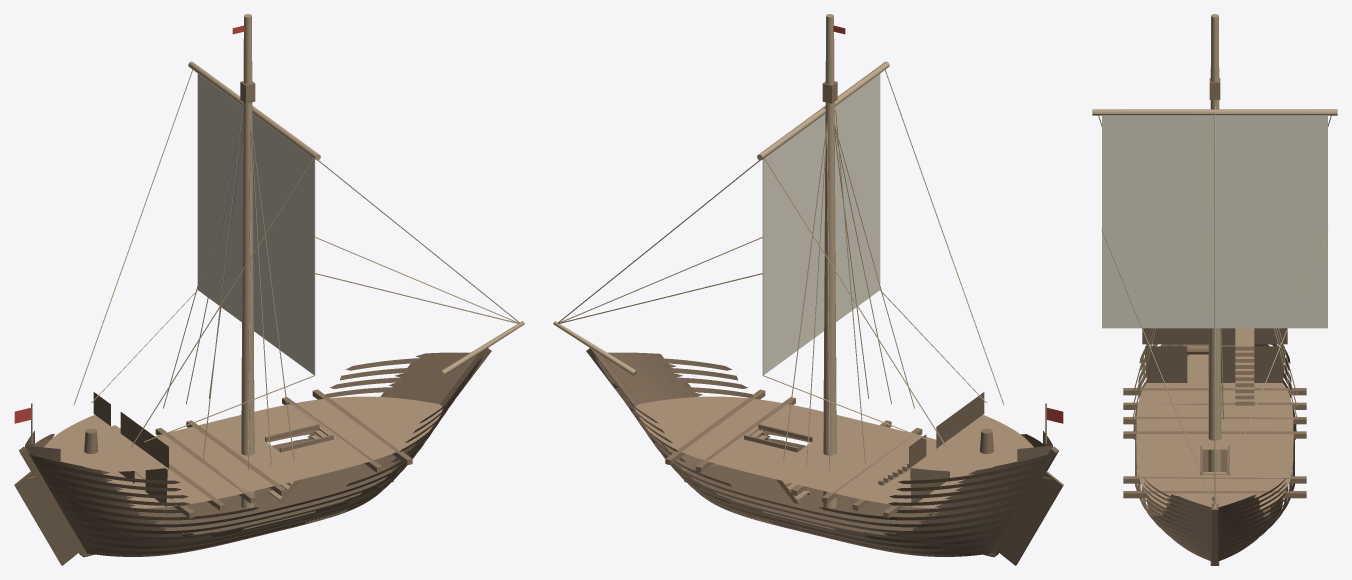
File: bremen-cog.glb
3 views of the same model, side by side, from view 1: azimuth 30°, elevation 25°; view 2: azimuth 150°, elevation 25°; view 3: azimuth 270°, elevation 25° (orthographic). The views are drawn at different scales.
Parts seen in each view (by area): view 1: hull, square-sail, deck, rope, mast, rudder, yard, stern-post, deck-beam-fwd-01-array.02, deck-beam-aft-01-array.04; view 2: hull, square-sail, deck, rope, mast, rudder, yard, stern-post, deck-beam-fwd-01-array.02; view 3: square-sail, deck, hull, rope, mast, yard, deck-beam-fwd-01-array.02, deck-beam-aft-01-array.04, deck-beam-aft-01, deck-beam-aft-01-array.03, deck-beam-fwd-01, stem-post (+1 smaller).
Part boxes in pixels (bbox=[...]): hull: bbox=[25, 352, 482, 556]; square-sail: bbox=[197, 74, 315, 375]; deck: bbox=[44, 396, 442, 508]; rope: bbox=[73, 70, 520, 470]; mast: bbox=[241, 14, 254, 508]; rudder: bbox=[14, 471, 79, 565]; yard: bbox=[188, 61, 320, 160]; stern-post: bbox=[19, 446, 86, 555]; deck-beam-fwd-01-array.02: bbox=[312, 389, 412, 465]; deck-beam-aft-01-array.04: bbox=[186, 420, 286, 495]; hull: bbox=[595, 352, 1052, 556]; square-sail: bbox=[762, 74, 880, 375]; deck: bbox=[635, 396, 1033, 508]; rope: bbox=[557, 70, 1004, 470]; mast: bbox=[823, 14, 836, 508]; rudder: bbox=[998, 471, 1063, 565]; yard: bbox=[757, 61, 889, 160]; stern-post: bbox=[991, 446, 1058, 555]; deck-beam-fwd-01-array.02: bbox=[665, 389, 765, 465]; square-sail: bbox=[1102, 115, 1327, 328]; deck: bbox=[1136, 328, 1293, 510]; hull: bbox=[1133, 328, 1296, 561]; rope: bbox=[1098, 106, 1331, 504]; mast: bbox=[1208, 14, 1221, 471]; yard: bbox=[1092, 109, 1337, 115]; deck-beam-fwd-01-array.02: bbox=[1123, 491, 1306, 498]; deck-beam-aft-01-array.04: bbox=[1123, 431, 1306, 438]; deck-beam-aft-01: bbox=[1123, 388, 1306, 395]; deck-beam-aft-01-array.03: bbox=[1123, 417, 1306, 424]; deck-beam-fwd-01: bbox=[1123, 476, 1306, 483]; stem-post: bbox=[1211, 504, 1218, 565].
Bounding box in the file's own units: 26.66 × 25.21 × 11.5.
